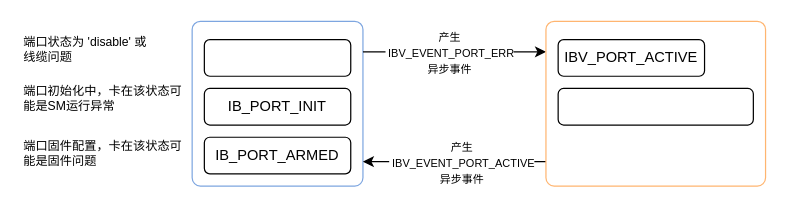
This 787x207 diagram has some shape labels left out. Each missing label, with the centre of its shape:
IB_PORT_DOWN: (x=277, y=57)
IBV_PORT_ACTIVE_DEFER: (x=655, y=106)
